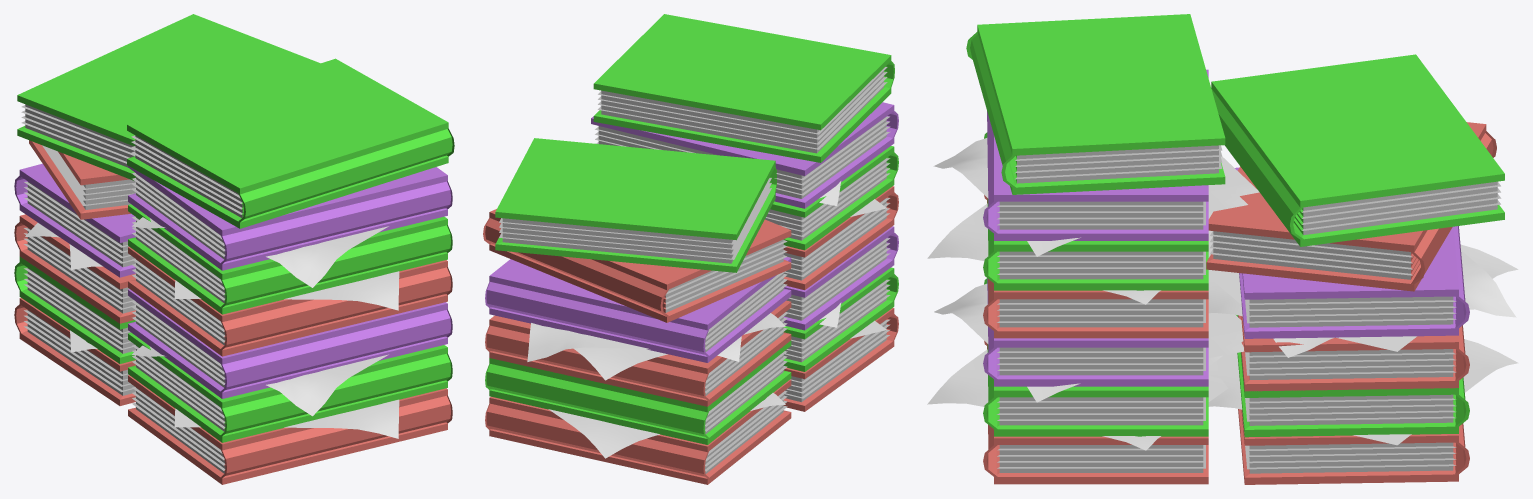
File: BookStack.fbx
3 renders of one model, left to right at view 1: azimuth 30°, elevation 25°; view 2: azimuth 150°, elevation 25°; view 3: azimuth 270°, elevation 25°, orthographic. The views are drawn at different scales.
Visible parts, largest first — view 1: Bookstack; view 2: Bookstack; view 3: Bookstack.
Boxes of the visible parts, x1=… form: Bookstack: x1=14, y1=14, x2=454, y2=484; Bookstack: x1=483, y1=14, x2=898, y2=484; Bookstack: x1=927, y1=14, x2=1518, y2=484.
Size of the model in its own units: 93.93 by 100 by 158.
